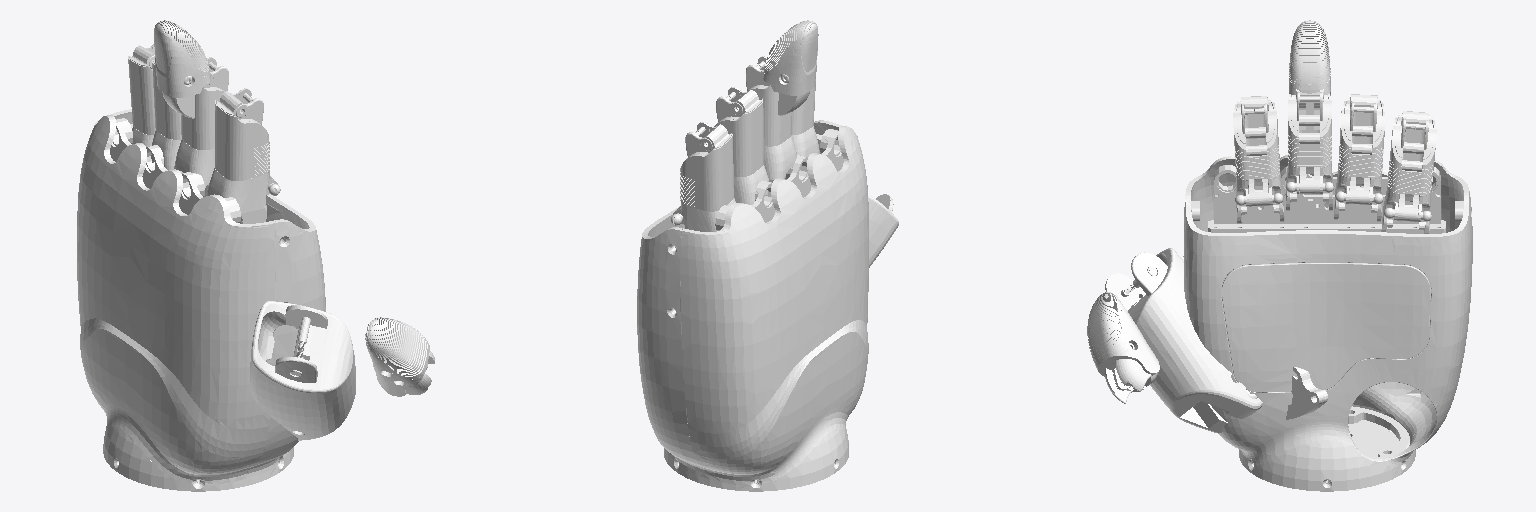
URDF robot description (linkerhand_O6_left.urdf):
<?xml version="1.0" encoding="utf-8"?>
<!-- This URDF was automatically created by SolidWorks to URDF Exporter! Originally created by [author] ([email redacted]) 
     Commit Version: 1.6.0-4-g7f85cfe  Build Version: 1.6.7995.38578
     For more information, please see http://wiki.ros.org/sw_urdf_exporter -->
<robot
  name="linkerhand_O6_left.urdf">
  <link
    name="hand_base_link">
    <inertial>
      <origin
        xyz="-0.00157788568070457 -0.00034876725935859 0.0538452219801211"
        rpy="0 0 0" />
      <mass
        value="0.0672935238166485" />
      <inertia
        ixx="5.22525212160954E-05"
        ixy="3.06955729584715E-07"
        ixz="-3.90341166950521E-07"
        iyy="3.33522349207724E-05"
        iyz="-7.76680063574627E-07"
        izz="2.28469461105385E-05" />
    </inertial>
    <visual>
      <origin
        xyz="0 0 0"
        rpy="0 0 0" />
      <geometry>
        <mesh
          filename="meshes/hand_base_link.STL" />
      </geometry>
      <material
        name="">
        <color
          rgba="1 1 1 1" />
      </material>
    </visual>
    <collision>
      <origin
        xyz="0 0 0"
        rpy="0 0 0" />
      <geometry>
        <mesh
          filename="meshes/hand_base_link.STL" />
      </geometry>
    </collision>
  </link>
  <link
    name="thumb_metacarpals_base2">
    <inertial>
      <origin
        xyz="0.00162800681276937 -0.0027668017246415 -0.00184234438641236"
        rpy="0 0 0" />
      <mass
        value="0.00138588296544333" />
      <inertia
        ixx="5.26292160685909E-08"
        ixy="-3.92888681640568E-09"
        ixz="-2.43767371295222E-09"
        iyy="4.82620491570326E-08"
        iyz="3.71869784206147E-09"
        izz="2.88550286112821E-08" />
    </inertial>
    <visual>
      <origin
        xyz="0 0 0"
        rpy="0 0 0" />
      <geometry>
        <mesh
          filename="meshes/thumb_metacarpals_base2.STL" />
      </geometry>
      <material
        name="">
        <color
          rgba="1 1 1 1" />
      </material>
    </visual>
    <collision>
      <origin
        xyz="0 0 0"
        rpy="0 0 0" />
      <geometry>
        <mesh
          filename="meshes/thumb_metacarpals_base2.STL" />
      </geometry>
    </collision>
  </link>
  <joint
    name="thumb_cmc_yaw"
    type="revolute">
    <origin
      xyz="0.011508 -0.022975 0.032794"
      rpy="0 0 0" />
    <parent
      link="hand_base_link" />
    <child
      link="thumb_metacarpals_base2" />
    <axis
      xyz="0 0 1" />
    <limit
      lower="0"
      upper="1.54"
      effort="100"
      velocity="1" />
  </joint>
  <link
    name="thumb_metacarpals">
    <inertial>
      <origin
        xyz="4.24816204999817E-05 1.74183907812875E-05 0.0228341640631254"
        rpy="0 0 0" />
      <mass
        value="0.0123381586619931" />
      <inertia
        ixx="1.10292537368909E-06"
        ixy="-5.99642232777877E-10"
        ixz="-1.14233573940545E-07"
        iyy="1.76757772551884E-06"
        iyz="-4.03963570823777E-10"
        izz="9.36347792411098E-07" />
    </inertial>
    <visual>
      <origin
        xyz="0 0 0"
        rpy="0 0 0" />
      <geometry>
        <mesh
          filename="meshes/thumb_metacarpals.STL" />
      </geometry>
      <material
        name="">
        <color
          rgba="1 1 1 1" />
      </material>
    </visual>
    <collision>
      <origin
        xyz="0 0 0"
        rpy="0 0 0" />
      <geometry>
        <mesh
          filename="meshes/thumb_metacarpals.STL" />
      </geometry>
    </collision>
  </link>
  <joint
    name="thumb_cmc_pitch"
    type="revolute">
    <origin
      xyz="0.0061649 -0.010678 -0.004891"
      rpy="0 -1.1529 2.0944" />
    <parent
      link="thumb_metacarpals_base2" />
    <child
      link="thumb_metacarpals" />
    <axis
      xyz="0 1 0" />
    <limit
      lower="0"
      upper="0.52"
      effort="100"
      velocity="1" />
  </joint>
  <link
    name="thumb_distal">
    <inertial>
      <origin
        xyz="-0.00413725702921841 -5.90704520436747E-08 0.023011401589736"
        rpy="0 0 0" />
      <mass
        value="0.00763332957284057" />
      <inertia
        ixx="1.3057487813702E-06"
        ixy="-1.19781508112714E-11"
        ixz="-7.19551697268541E-08"
        iyy="1.2248908905341E-06"
        iyz="4.55347974652679E-12"
        izz="2.77271910592615E-07" />
    </inertial>
    <visual>
      <origin
        xyz="0 0 0"
        rpy="0 0 0" />
      <geometry>
        <mesh
          filename="meshes/thumb_distal.STL" />
      </geometry>
      <material
        name="">
        <color
          rgba="1 1 1 1" />
      </material>
    </visual>
    <collision>
      <origin
        xyz="0 0 0"
        rpy="0 0 0" />
      <geometry>
        <mesh
          filename="meshes/thumb_distal.STL" />
      </geometry>
    </collision>
  </link>
  <joint
    name="thumb_ip"
    type="revolute">
    <origin
      xyz="0.0037776 0 0.045368"
      rpy="0 0 0" />
    <parent
      link="thumb_metacarpals" />
    <child
      link="thumb_distal" />
    <axis
      xyz="0 1 0" />
    <limit
      lower="0"
      upper="0.96"
      effort="100"
      velocity="1" />
    <mimic
      joint="thumb_cmc_pitch"
      multiplier="1.83"
      offset="0" />
  </joint>
  <link
    name="index_proximal">
    <inertial>
      <origin
        xyz="-0.00208656556336452 2.53838713251686E-06 0.0172734941980264"
        rpy="0 0 0" />
      <mass
        value="0.00253174651934627" />
      <inertia
        ixx="2.65988714157799E-07"
        ixy="-1.67174578825824E-11"
        ixz="-4.31047725546034E-08"
        iyy="2.72914069166233E-07"
        iyz="1.8756709532167E-10"
        izz="8.56017305636748E-08" />
    </inertial>
    <visual>
      <origin
        xyz="0 0 0"
        rpy="0 0 0" />
      <geometry>
        <mesh
          filename="meshes/index_proximal.STL" />
      </geometry>
      <material
        name="">
        <color
          rgba="1 1 1 1" />
      </material>
    </visual>
    <collision>
      <origin
        xyz="0 0 0"
        rpy="0 0 0" />
      <geometry>
        <mesh
          filename="meshes/index_proximal.STL" />
      </geometry>
    </collision>
  </link>
  <joint
    name="index_mcp_pitch"
    type="revolute">
    <origin
      xyz="0.0024758 -0.02419 0.098779"
      rpy="0.05236 0 0" />
    <parent
      link="hand_base_link" />
    <child
      link="index_proximal" />
    <axis
      xyz="0 1 0" />
    <limit
      lower="0"
      upper="1.57"
      effort="100"
      velocity="1" />
  </joint>
  <link
    name="index_distal">
    <inertial>
      <origin
        xyz="0.00658986616416549 5.13855642059191E-06 0.0194393600039178"
        rpy="0 0 0" />
      <mass
        value="0.00376951085886838" />
      <inertia
        ixx="3.22347106085043E-07"
        ixy="1.3801788663582E-11"
        ixz="1.14352857317951E-07"
        iyy="3.65328133721509E-07"
        iyz="-2.11505011705634E-10"
        izz="1.24287996386442E-07" />
    </inertial>
    <visual>
      <origin
        xyz="0 0 0"
        rpy="0 0 0" />
      <geometry>
        <mesh
          filename="meshes/index_distal.STL" />
      </geometry>
      <material
        name="">
        <color
          rgba="1 1 1 1" />
      </material>
    </visual>
    <collision>
      <origin
        xyz="0 0 0"
        rpy="0 0 0" />
      <geometry>
        <mesh
          filename="meshes/index_distal.STL" />
      </geometry>
    </collision>
  </link>
  <joint
    name="index_dip"
    type="revolute">
    <origin
      xyz="-0.0052516 0 0.036625"
      rpy="0 0 0" />
    <parent
      link="index_proximal" />
    <child
      link="index_distal" />
    <axis
      xyz="0 1 0" />
    <limit
      lower="0"
      upper="1.4"
      effort="100"
      velocity="1" />
    <mimic
      joint="index_mcp_pitch"
      multiplier="0.89"
      offset="0" />
  </joint>
  <link
    name="middle_proximal">
    <inertial>
      <origin
        xyz="-0.00208660654138235 2.56918180119303E-06 0.0172735011723351"
        rpy="0 0 0" />
      <mass
        value="0.00253177375206983" />
      <inertia
        ixx="2.65989021304483E-07"
        ixy="-1.69816046635662E-11"
        ixz="-4.31046683215273E-08"
        iyy="2.72914402745606E-07"
        iyz="1.87484652324395E-10"
        izz="8.5602213431865E-08" />
    </inertial>
    <visual>
      <origin
        xyz="0 0 0"
        rpy="0 0 0" />
      <geometry>
        <mesh
          filename="meshes/middle_proximal.STL" />
      </geometry>
      <material
        name="">
        <color
          rgba="1 1 1 1" />
      </material>
    </visual>
    <collision>
      <origin
        xyz="0 0 0"
        rpy="0 0 0" />
      <geometry>
        <mesh
          filename="meshes/middle_proximal.STL" />
      </geometry>
    </collision>
  </link>
  <joint
    name="middle_mcp_pitch"
    type="revolute">
    <origin
      xyz="0.00052576 -0.00634 0.1027"
      rpy="0 0 0" />
    <parent
      link="hand_base_link" />
    <child
      link="middle_proximal" />
    <axis
      xyz="0 1 0" />
    <limit
      lower="0"
      upper="1.57"
      effort="100"
      velocity="1" />
  </joint>
  <link
    name="middle_distal">
    <inertial>
      <origin
        xyz="0.00658986516319194 5.10862924271716E-06 0.0194393315699782"
        rpy="0 0 0" />
      <mass
        value="0.00376952789210256" />
      <inertia
        ixx="3.22348591068053E-07"
        ixy="1.37122394856588E-11"
        ixz="1.1435291391668E-07"
        iyy="3.65329535087755E-07"
        iyz="-2.10453810291991E-10"
        izz="1.24288425862546E-07" />
    </inertial>
    <visual>
      <origin
        xyz="0 0 0"
        rpy="0 0 0" />
      <geometry>
        <mesh
          filename="meshes/middle_distal.STL" />
      </geometry>
      <material
        name="">
        <color
          rgba="1 1 1 1" />
      </material>
    </visual>
    <collision>
      <origin
        xyz="0 0 0"
        rpy="0 0 0" />
      <geometry>
        <mesh
          filename="meshes/middle_distal.STL" />
      </geometry>
    </collision>
  </link>
  <joint
    name="middle_dip"
    type="revolute">
    <origin
      xyz="-0.0052516 0 0.036625"
      rpy="0 0 0" />
    <parent
      link="middle_proximal" />
    <child
      link="middle_distal" />
    <axis
      xyz="0 1 0" />
    <limit
      lower="0"
      upper="1.4"
      effort="100"
      velocity="1" />
    <mimic
      joint="middle_mcp_pitch"
      multiplier="0.89"
      offset="0" />
  </joint>
  <link
    name="ring_proximal">
    <inertial>
      <origin
        xyz="-0.00208667931345812 2.63000419462034E-06 0.0172734926448377"
        rpy="0 0 0" />
      <mass
        value="0.00253182223645066" />
      <inertia
        ixx="2.65989756076584E-07"
        ixy="-1.74912952703656E-11"
        ixz="-4.31043325594253E-08"
        iyy="2.7291510093393E-07"
        iyz="1.87158326740895E-10"
        izz="8.56031522765909E-08" />
    </inertial>
    <visual>
      <origin
        xyz="0 0 0"
        rpy="0 0 0" />
      <geometry>
        <mesh
          filename="meshes/ring_proximal.STL" />
      </geometry>
      <material
        name="">
        <color
          rgba="1 1 1 1" />
      </material>
    </visual>
    <collision>
      <origin
        xyz="0 0 0"
        rpy="0 0 0" />
      <geometry>
        <mesh
          filename="meshes/ring_proximal.STL" />
      </geometry>
    </collision>
  </link>
  <joint
    name="ring_mcp_pitch"
    type="revolute">
    <origin
      xyz="0.0010258 0.011135 0.098767"
      rpy="-0.05236 0 0" />
    <parent
      link="hand_base_link" />
    <child
      link="ring_proximal" />
    <axis
      xyz="0 1 0" />
    <limit
      lower="0"
      upper="1.57"
      effort="100"
      velocity="1" />
  </joint>
  <link
    name="ring_distal">
    <inertial>
      <origin
        xyz="0.00658986648895491 5.05883528165163E-06 0.019439397215532"
        rpy="0 0 0" />
      <mass
        value="0.00376949588316609" />
      <inertia
        ixx="3.2234524157181E-07"
        ixy="1.35766976056011E-11"
        ixz="1.14353011012842E-07"
        iyy="3.65326570102147E-07"
        iyz="-2.08672149138738E-10"
        izz="1.24287770218135E-07" />
    </inertial>
    <visual>
      <origin
        xyz="0 0 0"
        rpy="0 0 0" />
      <geometry>
        <mesh
          filename="meshes/ring_distal.STL" />
      </geometry>
      <material
        name="">
        <color
          rgba="1 1 1 1" />
      </material>
    </visual>
    <collision>
      <origin
        xyz="0 0 0"
        rpy="0 0 0" />
      <geometry>
        <mesh
          filename="meshes/ring_distal.STL" />
      </geometry>
    </collision>
  </link>
  <joint
    name="ring_dip"
    type="revolute">
    <origin
      xyz="-0.0052516 0 0.036625"
      rpy="0 0 0" />
    <parent
      link="ring_proximal" />
    <child
      link="ring_distal" />
    <axis
      xyz="0 1 0" />
    <limit
      lower="0"
      upper="1.4"
      effort="100"
      velocity="1" />
    <mimic
      joint="ring_mcp_pitch"
      multiplier="0.89"
      offset="0" />
  </joint>
  <link
    name="pinky_proximal">
    <inertial>
      <origin
        xyz="-0.00208673599799501 2.68062251165824E-06 0.0172734848131236"
        rpy="0 0 0" />
      <mass
        value="0.00253185993162408" />
      <inertia
        ixx="2.6599033687183E-07"
        ixy="-1.79030790016555E-11"
        ixz="-4.31040829565781E-08"
        iyy="2.72915617381577E-07"
        iyz="1.86906787420486E-10"
        izz="8.56039175034871E-08" />
    </inertial>
    <visual>
      <origin
        xyz="0 0 0"
        rpy="0 0 0" />
      <geometry>
        <mesh
          filename="meshes/pinky_proximal.STL" />
      </geometry>
      <material
        name="">
        <color
          rgba="1 1 1 1" />
      </material>
    </visual>
    <collision>
      <origin
        xyz="0 0 0"
        rpy="0 0 0" />
      <geometry>
        <mesh
          filename="meshes/pinky_proximal.STL" />
      </geometry>
    </collision>
  </link>
  <joint
    name="pinky_mcp_pitch"
    type="revolute">
    <origin
      xyz="0.0024758 0.028372 0.092741"
      rpy="-0.087266 0 0" />
    <parent
      link="hand_base_link" />
    <child
      link="pinky_proximal" />
    <axis
      xyz="0 1 0" />
    <limit
      lower="0"
      upper="1.57"
      effort="100"
      velocity="1" />
    
  </joint>
  <link
    name="pinky_distal">
    <inertial>
      <origin
        xyz="0.00658987588903027 5.03087534178825E-06 0.0194394491065091"
        rpy="0 0 0" />
      <mass
        value="0.00376948071276134" />
      <inertia
        ixx="3.22343583730488E-07"
        ixy="1.35768173270357E-11"
        ixz="1.14353289593012E-07"
        iyy="3.65325180884183E-07"
        iyz="-2.0744198062439E-10"
        izz="1.24287567374229E-07" />
    </inertial>
    <visual>
      <origin
        xyz="0 0 0"
        rpy="0 0 0" />
      <geometry>
        <mesh
          filename="meshes/pinky_distal.STL" />
      </geometry>
      <material
        name="">
        <color
          rgba="1 1 1 1" />
      </material>
    </visual>
    <collision>
      <origin
        xyz="0 0 0"
        rpy="0 0 0" />
      <geometry>
        <mesh
          filename="meshes/pinky_distal.STL" />
      </geometry>
    </collision>
  </link>
  <joint
    name="pinky_dip"
    type="revolute">
    <origin
      xyz="-0.0052516 0 0.036625"
      rpy="0 0 0" />
    <parent
      link="pinky_proximal" />
    <child
      link="pinky_distal" />
    <axis
      xyz="0 1 0" />
    <limit
      lower="0"
      upper="1.4"
      effort="100"
      velocity="1" />
    <mimic
      joint="pinky_mcp_pitch"
      multiplier="0.89"
      offset="0" />
  </joint>
</robot>

--- What the picture shows (computed from the rendered views, not written in the file) ---
Views: 3 orthographic renders of the robot side by side, from view 1: azimuth 30°, elevation 25°; view 2: azimuth 150°, elevation 25°; view 3: azimuth 270°, elevation 25°.
Model linkerhand_O6_left.urdf with 12 links and 11 joints (11 revolute), rooted at hand_base_link, posed every joint at zero.
Visible links, largest first — view 1: hand_base_link, thumb_metacarpals, index_proximal, thumb_distal, middle_distal, middle_proximal, pinky_proximal, ring_proximal; view 2: hand_base_link, pinky_proximal, ring_proximal, middle_distal, middle_proximal, thumb_metacarpals, index_proximal; view 3: hand_base_link, thumb_metacarpals, index_proximal, pinky_proximal, ring_proximal, thumb_distal, middle_proximal, middle_distal, thumb_metacarpals_base2.
Boxes of the visible links, left/top/right/bottom form: hand_base_link: left=77, top=109, right=325, bottom=491; thumb_metacarpals: left=250, top=301, right=355, bottom=440; index_proximal: left=206, top=88, right=280, bottom=223; thumb_distal: left=365, top=317, right=434, bottom=396; middle_distal: left=154, top=20, right=210, bottom=118; middle_proximal: left=174, top=57, right=228, bottom=185; pinky_proximal: left=128, top=44, right=155, bottom=146; ring_proximal: left=151, top=60, right=207, bottom=187; hand_base_link: left=637, top=120, right=868, bottom=491; pinky_proximal: left=671, top=122, right=735, bottom=231; ring_proximal: left=714, top=87, right=768, bottom=204; middle_distal: left=763, top=20, right=818, bottom=115; middle_proximal: left=746, top=56, right=796, bottom=179; thumb_metacarpals: left=868, top=194, right=898, bottom=267; index_proximal: left=769, top=68, right=819, bottom=182; hand_base_link: left=1183, top=155, right=1472, bottom=491; thumb_metacarpals: left=1105, top=248, right=1262, bottom=433; index_proximal: left=1233, top=96, right=1284, bottom=223; pinky_proximal: left=1381, top=111, right=1436, bottom=233; ring_proximal: left=1334, top=94, right=1384, bottom=221; thumb_distal: left=1087, top=292, right=1159, bottom=403; middle_proximal: left=1286, top=89, right=1333, bottom=210; middle_distal: left=1289, top=20, right=1330, bottom=129; thumb_metacarpals_base2: left=1286, top=367, right=1327, bottom=419.
Size in the robot's own frame: 0.0821 by 0.1393 by 0.1646 metres.
9 mesh visuals loaded from 12 distinct referenced files (9 binary STL); not drawn: 3 (reference not matched to a file when rendering).